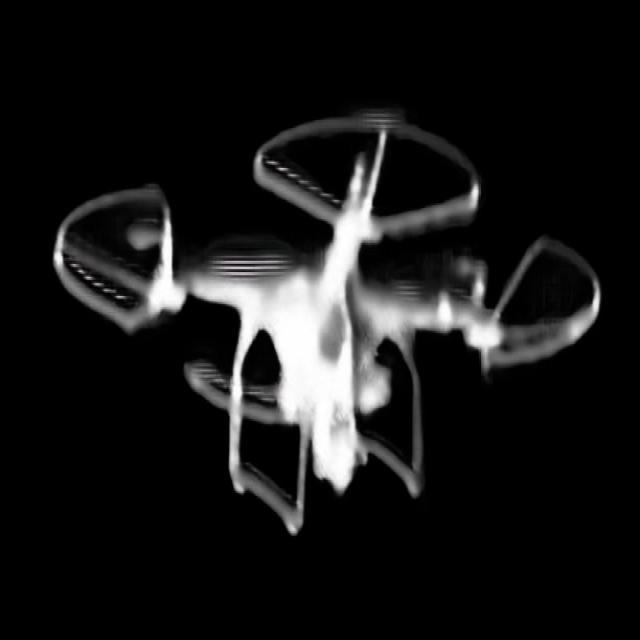drone: (44, 65, 616, 558)
